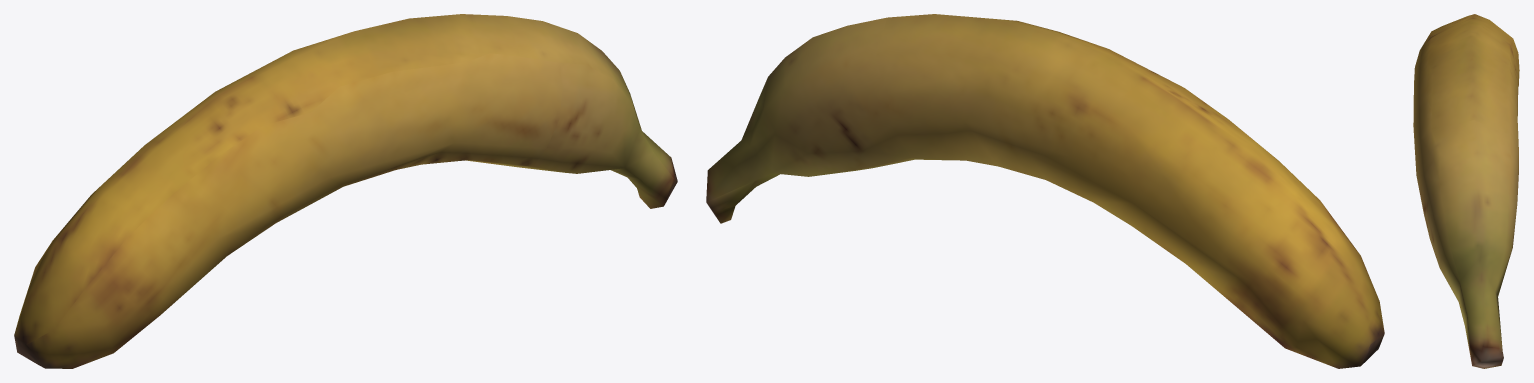
The picture shows the model from 3 angles, left to right: view 1: azimuth 30°, elevation 25°; view 2: azimuth 150°, elevation 25°; view 3: azimuth 270°, elevation 25°; orthographic projection. The views are drawn at different scales.
Parts seen in each view (by area): view 1: banana_1; view 2: banana_1; view 3: banana_1.
Part boxes in pixels (bbox=[...]): banana_1: bbox=[14, 14, 677, 368]; banana_1: bbox=[706, 14, 1384, 368]; banana_1: bbox=[1413, 14, 1519, 368].
Bounding box in the file's own units: 0.1076 × 0.0401 × 0.0184.
1 material, 1 textured.
